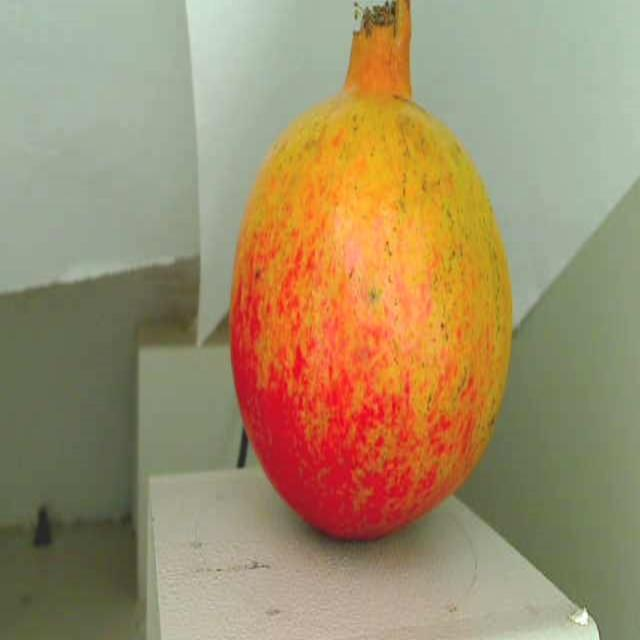pomegranate: (226, 0, 512, 538)
